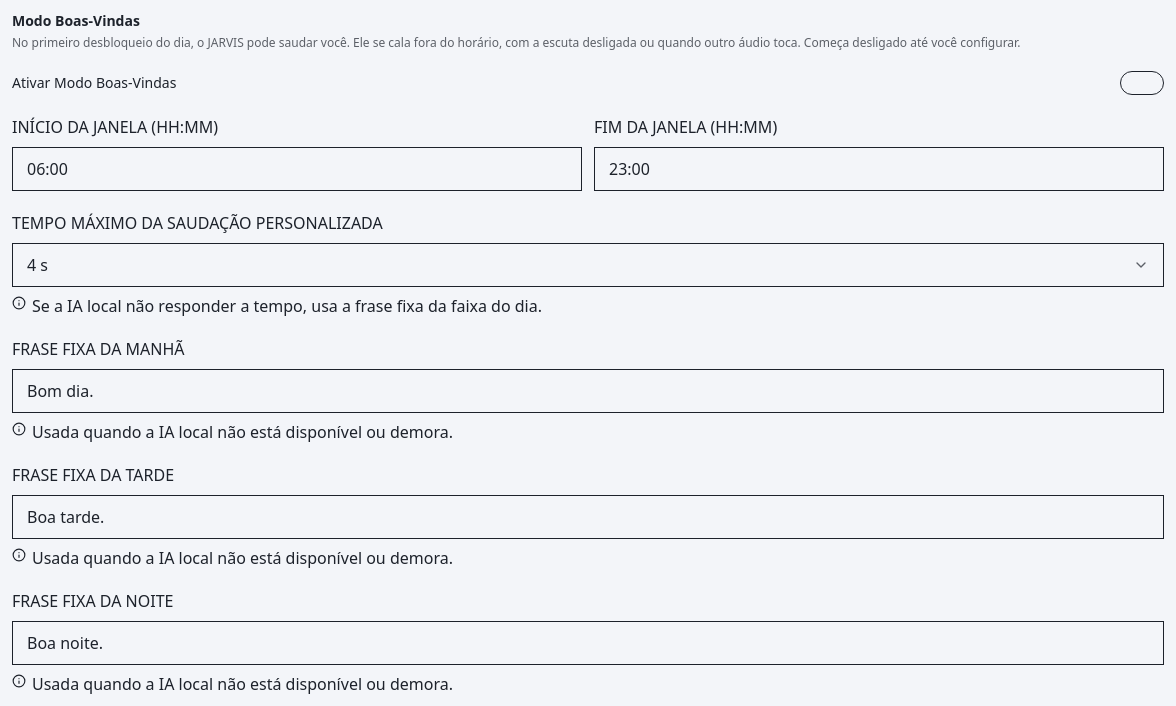
Test: Settings do Modo Boas-Vindas › recusa horário inválido antes de escrever no main
The image size is (1176, 706).
Type "25:00" into the field labelled "Início da janela (HH:MM)" at (297, 169), box [12,147,582,191]
(page scrolled)
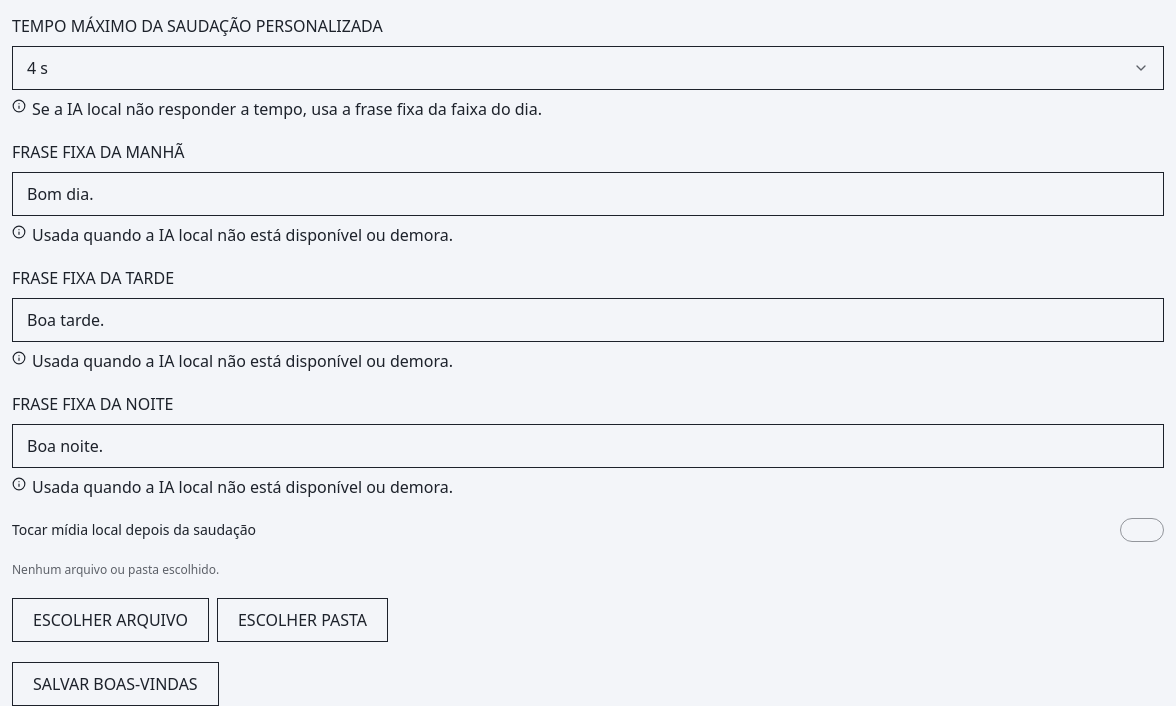
Click the button "Salvar boas-vindas" at (115, 684), box [12,662,219,705]
(page scrolled)
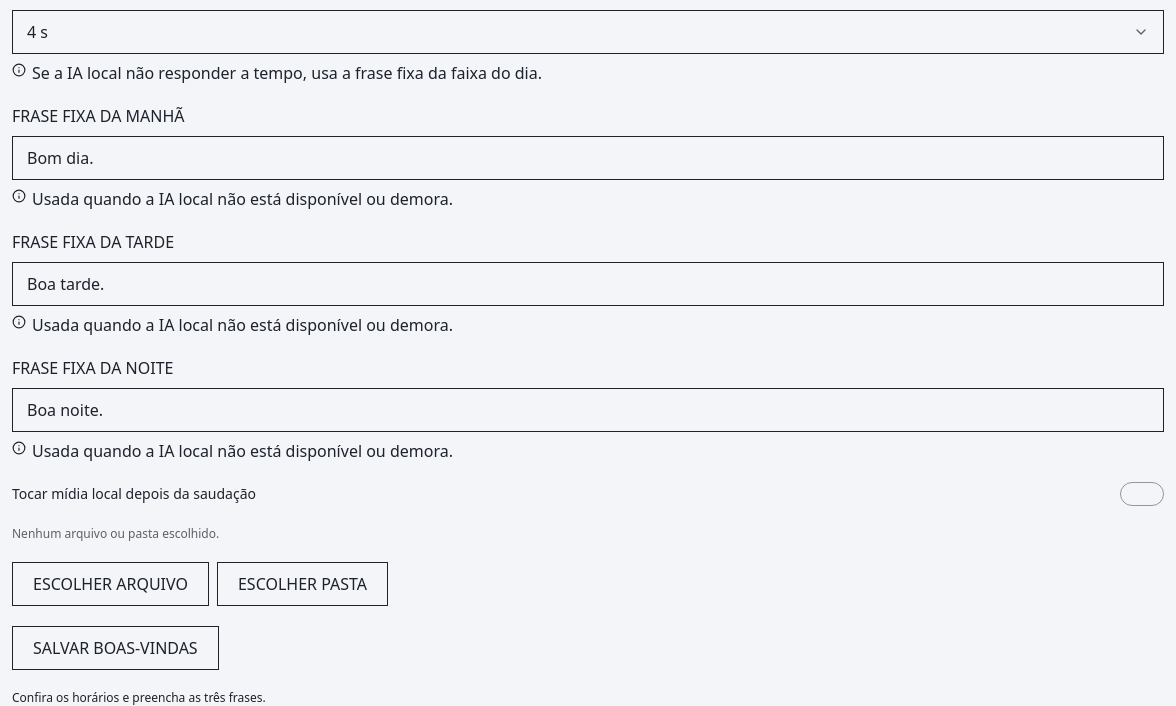
Expected: the message shows "Confira os horários", [12,689,266,705]
